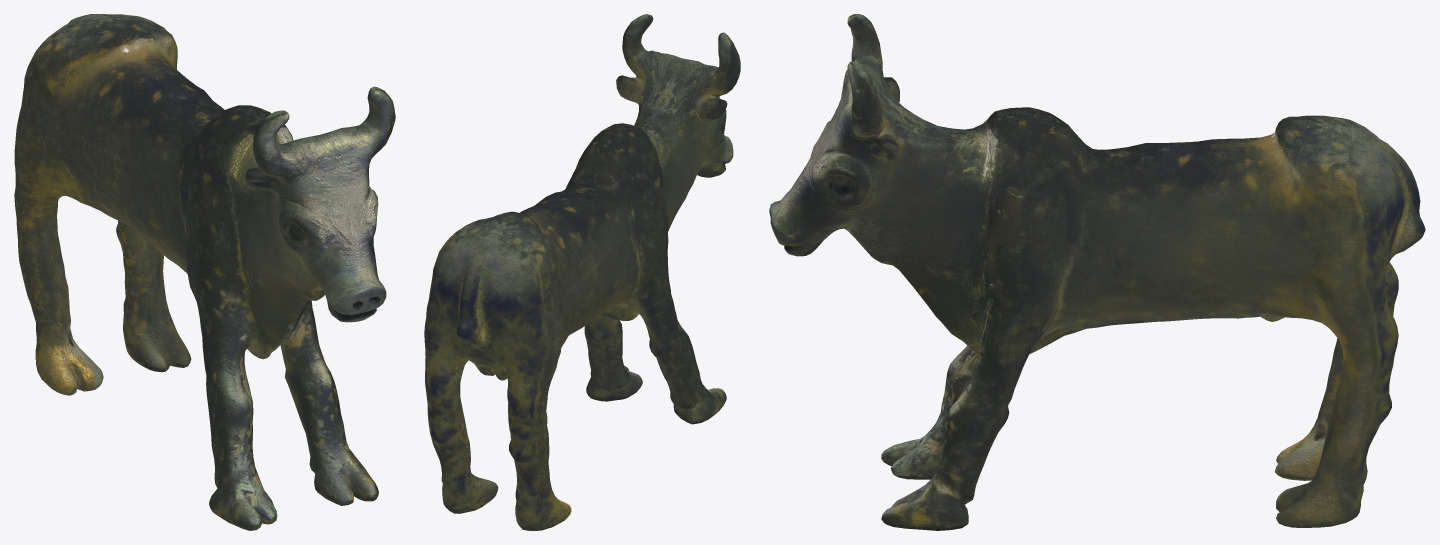
File: statue_1.glb
The picture shows the model from 3 angles, left to right: view 1: azimuth 30°, elevation 25°; view 2: azimuth 150°, elevation 25°; view 3: azimuth 270°, elevation 25°; orthographic projection. The views are drawn at different scales.
Visible parts, largest first — view 1: mesh_node; view 2: mesh_node; view 3: mesh_node.
Part boxes in pixels (x1,y1,x2,y2): mesh_node: (14, 14, 395, 530); mesh_node: (424, 14, 740, 530); mesh_node: (769, 14, 1425, 530).
Bounding box in the file's own units: 0.5518 × 1.47 × 1.91.
Materials: 1 (1 with a texture image).
